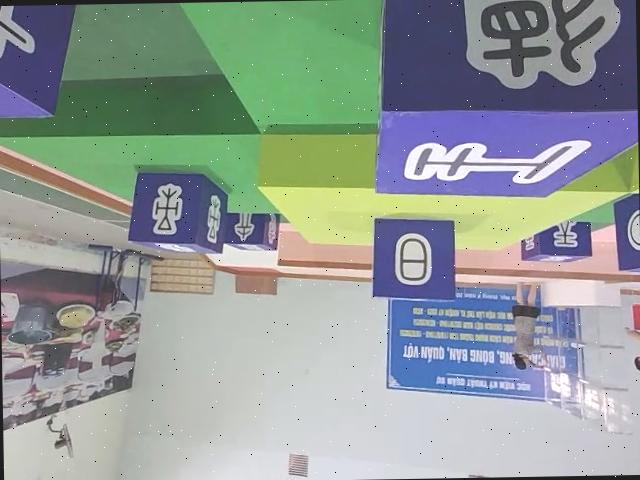R2 Fake Blue: (371, 0, 639, 211), (372, 214, 459, 301), (223, 209, 283, 250)
R2 Real Blue: (125, 169, 227, 254), (521, 221, 594, 263)
